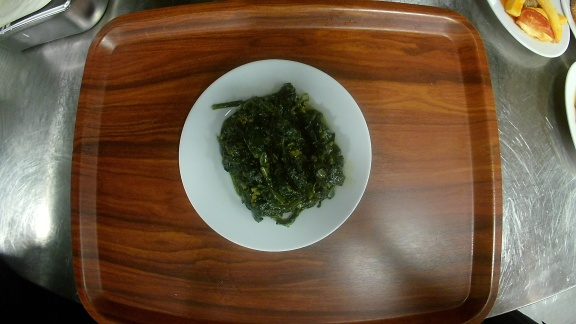ispanak: (178, 58, 372, 253)
